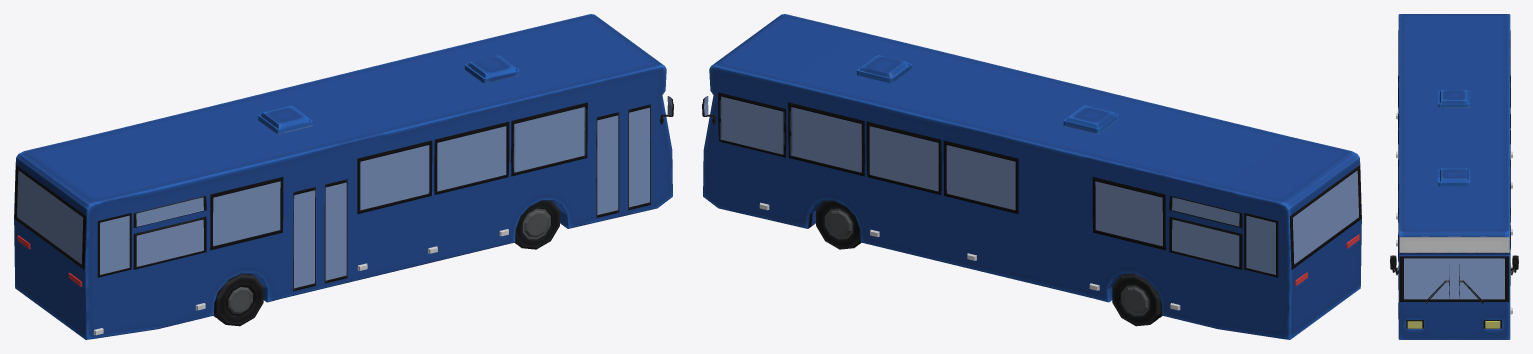
File: My_Bus_Texturizado_FIX.fbx
3 renders of one model, left to right at view 1: azimuth 30°, elevation 25°; view 2: azimuth 150°, elevation 25°; view 3: azimuth 270°, elevation 25°, orthographic. The views are drawn at different scales.
Visible parts, largest first — view 1: Corpo.001, Janelas, Abertura, Pneu_Tras, Pneu_frente; view 2: Corpo.001, Janelas, Abertura, Pneu_Tras, Pneu_frente; view 3: Corpo.001, Janelas, Abertura, Retrovisor, Plane, Sinalizaçao.
Part boxes in pixels (x1=…): Corpo.001: x1=14, y1=14, x2=672, y2=339; Janelas: x1=14, y1=102, x2=650, y2=291; Abertura: x1=258, y1=55, x2=519, y2=134; Pneu_Tras: x1=213, y1=273, x2=263, y2=326; Pneu_frente: x1=514, y1=200, x2=559, y2=249; Corpo.001: x1=703, y1=14, x2=1361, y2=339; Janelas: x1=718, y1=92, x2=1361, y2=277; Abertura: x1=857, y1=55, x2=1118, y2=133; Pneu_Tras: x1=1112, y1=273, x2=1162, y2=326; Pneu_frente: x1=816, y1=200, x2=861, y2=249; Corpo.001: x1=1398, y1=14, x2=1510, y2=339; Janelas: x1=1398, y1=30, x2=1510, y2=318; Abertura: x1=1438, y1=90, x2=1470, y2=186; Retrovisor: x1=1390, y1=255, x2=1518, y2=275; Plane: x1=1424, y1=264, x2=1484, y2=303; Sinalizaçao: x1=1396, y1=112, x2=1512, y2=314.
Bounding box in the file's own units: 454 × 122 × 110.
